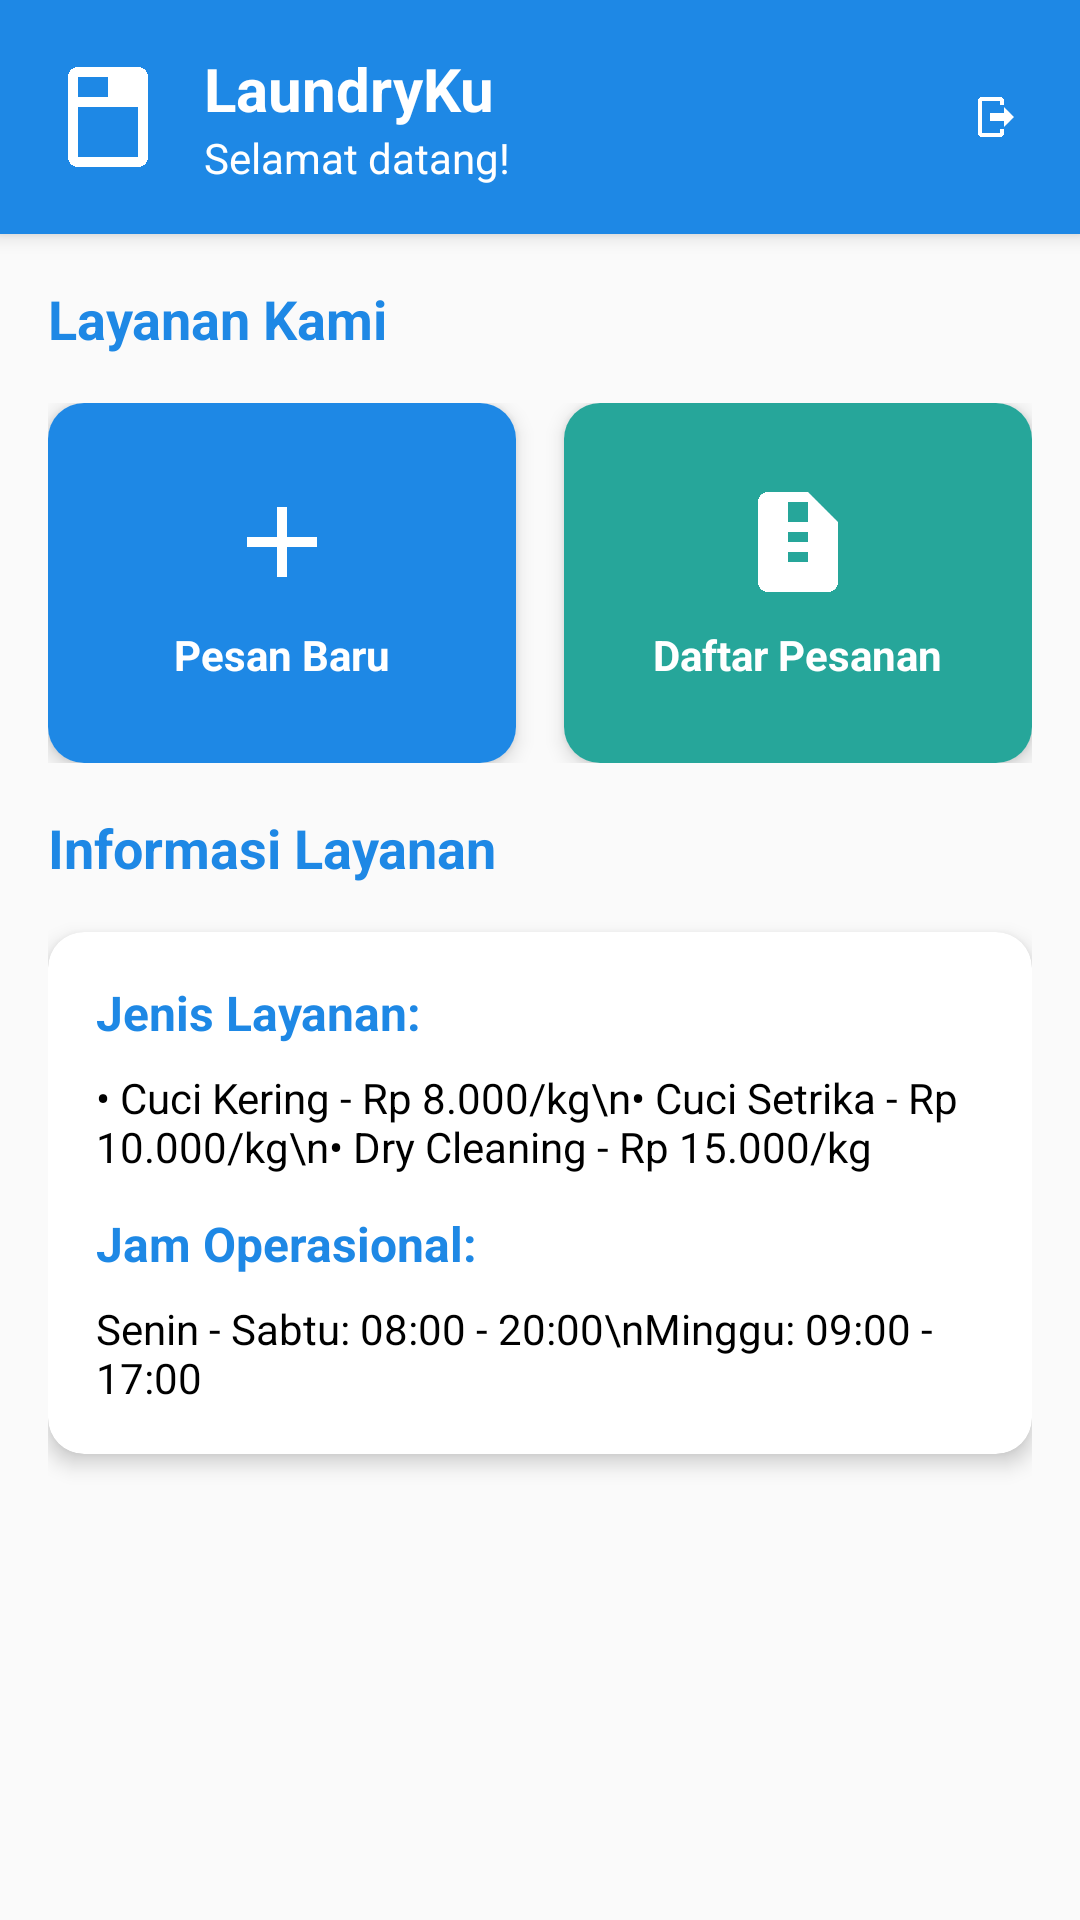

Icons on this 1080w x 1920h Android screen, each with its box as (x1, y1, x2, y2):
add order: (247, 507, 317, 577)
order list: (758, 492, 838, 592)
